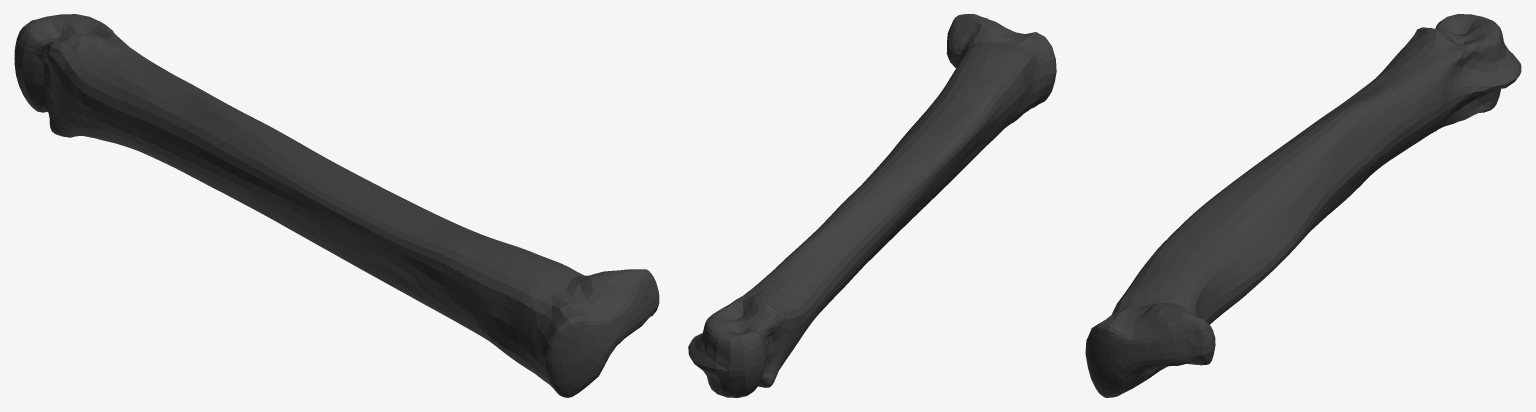
File: Metatarsus_II_III_IV_V_003_L.glb
3 renders of one model, left to right at view 1: azimuth 30°, elevation 25°; view 2: azimuth 150°, elevation 25°; view 3: azimuth 330°, elevation 25°, orthographic. The views are drawn at different scales.
Parts seen in each view (by area): view 1: Metatarsus_II_III_IV_V_003_L; view 2: Metatarsus_II_III_IV_V_003_L; view 3: Metatarsus_II_III_IV_V_003_L.
Part boxes in pixels (x1=…): Metatarsus_II_III_IV_V_003_L: x1=14, y1=14, x2=659, y2=397; Metatarsus_II_III_IV_V_003_L: x1=688, y1=14, x2=1056, y2=397; Metatarsus_II_III_IV_V_003_L: x1=1085, y1=14, x2=1521, y2=397.
Size of the model in its own units: 0.0307 by 0.0198 by 0.1282.
1 material, 1 textured.
